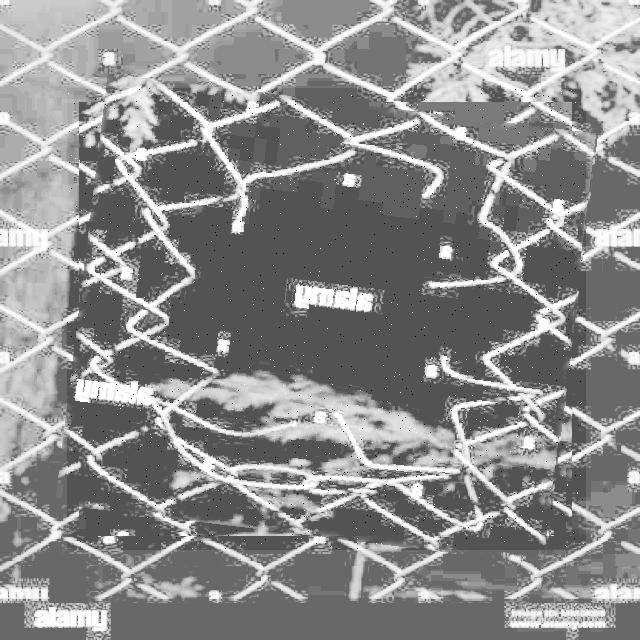anomaly-fence: (67, 88, 586, 550)
